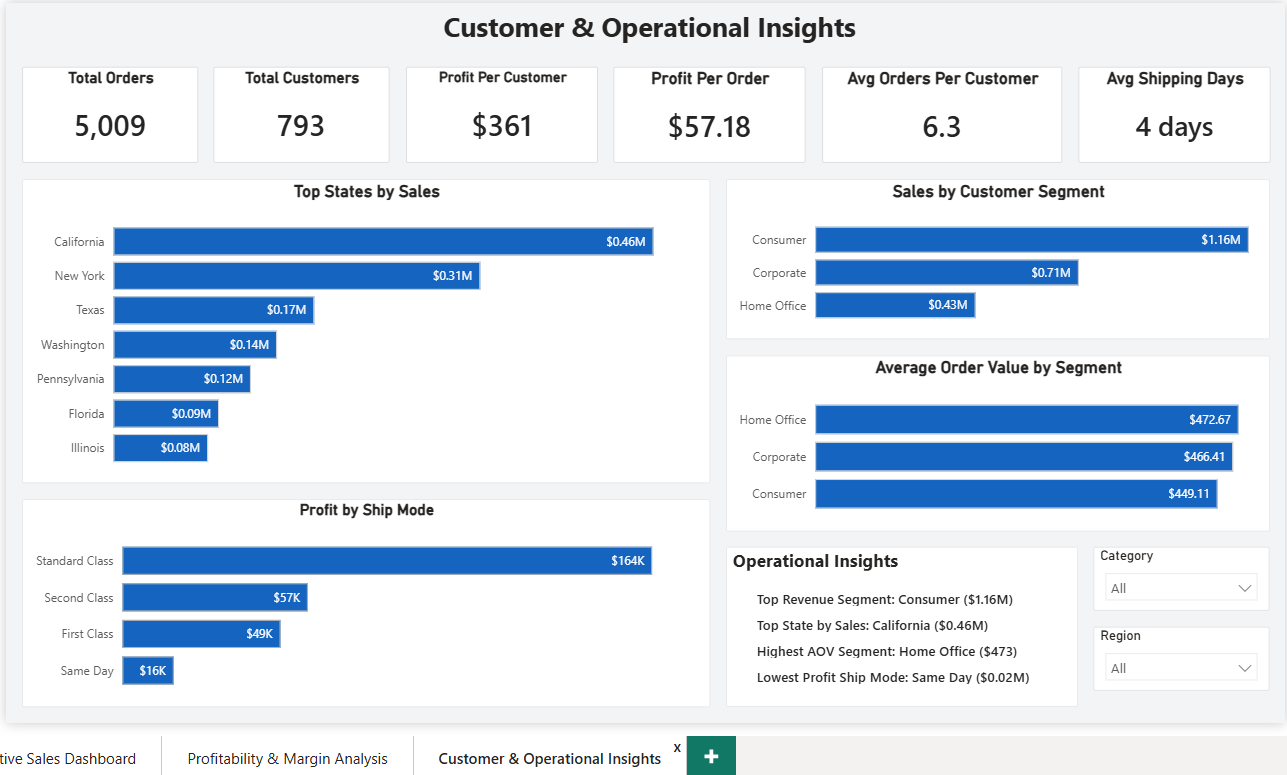

Layout of this report page (visuals, bound fields, positions):
{"tool":"powerbi","page":{"name":"Customer & Operational Insights","canvas":[1280,720],"ordinal":2},"visuals":[{"type":"clusteredBarChart","title":"Sales by Customer Segment","fields":{"Category":["Sample - Superstore.Segment"],"Y":["Sum(Sample - Superstore.Sales)"]},"box":[720,176,544,160],"z":0},{"type":"barChart","title":"Profit by Ship Mode","fields":{"Category":["Sample - Superstore.Ship Mode"],"Y":["Sample - Superstore.Total Profit"]},"box":[16,496,688,208],"z":1000},{"type":"textbox","box":[432,0,432,48],"z":2000},{"type":"clusteredBarChart","title":"Top States by Sales","fields":{"Category":["Sample - Superstore.State"],"Y":["Sum(Sample - Superstore.Sales)"]},"box":[16,176,688,304],"z":3000},{"type":"clusteredBarChart","title":"Average Order Value by Segment","fields":{"Category":["Sample - Superstore.Segment"],"Y":["Sample - Superstore.AOV"]},"box":[720,352,544,176],"z":4000},{"type":"slicer","title":"Category","fields":{"Values":["Sample - Superstore.Category"]},"box":[1088,544,176,64],"z":5000},{"type":"slicer","title":"Region","fields":{"Values":["Sample - Superstore.Region"]},"box":[1088,624,176,64],"z":6000},{"type":"cardVisual","title":"Total Customers","fields":{"Data":["DimDate.Total Customers"]},"box":[208,64,176,96],"z":7000},{"type":"cardVisual","title":"Avg Shipping Days","fields":{"Data":["DimDate.Avg Shipping Days KPI"]},"box":[1072,64,192,96],"z":8000},{"type":"cardVisual","title":"Total Orders","fields":{"Data":["Sample - Superstore.Total Orders"]},"box":[16,64,176,96],"z":9000},{"type":"cardVisual","title":"Operational Insights","fields":{"Data":["DimDate.Top Revenue Segment","DimDate.Top State by Sales","DimDate.Highest AOV Segment","DimDate.Lowest Profit Ship Mode"]},"box":[720,544,352,160],"z":10000},{"type":"cardVisual","title":"Profit Per Order","fields":{"Data":["DimDate.Profit per Order"]},"box":[608,64,192,96],"z":11000},{"type":"cardVisual","title":"Profit Per Customer","fields":{"Data":["DimDate.Profit per Customer"]},"box":[400,64,192,96],"z":12000},{"type":"cardVisual","title":"Avg Orders Per Customer","fields":{"Data":["DimDate.Avg Orders per Customer"]},"box":[816,64,240,96],"z":13000}]}

Visuals, with their boxes on the page's 1280x720 design canvas (x1, y1, x2, y2). These are canvas units, not pixel positions in the 1287x775 screenshot, which may show the page scaled, cropped or inside an application window:
"Sales by Customer Segment" clusteredBarChart: 720, 176, 1264, 336
"Profit by Ship Mode" barChart: 16, 496, 704, 704
textbox: 432, 0, 864, 48
"Top States by Sales" clusteredBarChart: 16, 176, 704, 480
"Average Order Value by Segment" clusteredBarChart: 720, 352, 1264, 528
"Category" slicer: 1088, 544, 1264, 608
"Region" slicer: 1088, 624, 1264, 688
"Total Customers" cardVisual: 208, 64, 384, 160
"Avg Shipping Days" cardVisual: 1072, 64, 1264, 160
"Total Orders" cardVisual: 16, 64, 192, 160
"Operational Insights" cardVisual: 720, 544, 1072, 704
"Profit Per Order" cardVisual: 608, 64, 800, 160
"Profit Per Customer" cardVisual: 400, 64, 592, 160
"Avg Orders Per Customer" cardVisual: 816, 64, 1056, 160
